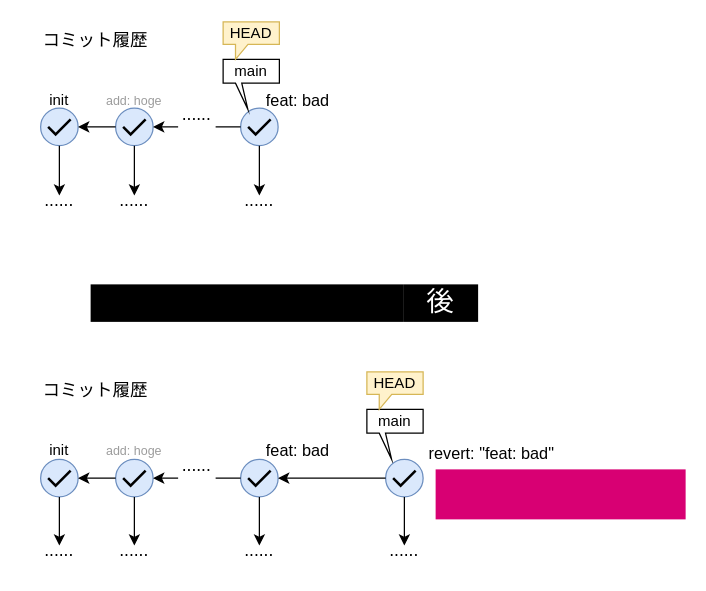
Some shapes in this 706 by 591 pixel diagram are drawn without their labels. The shapes that lost their labels are listed below. From the top down, each one's centre as x and y in pixels, then its label:
the point at 246,302: git revert HEAD
the point at 560,494: 変更を打ち消すコミットを追加
